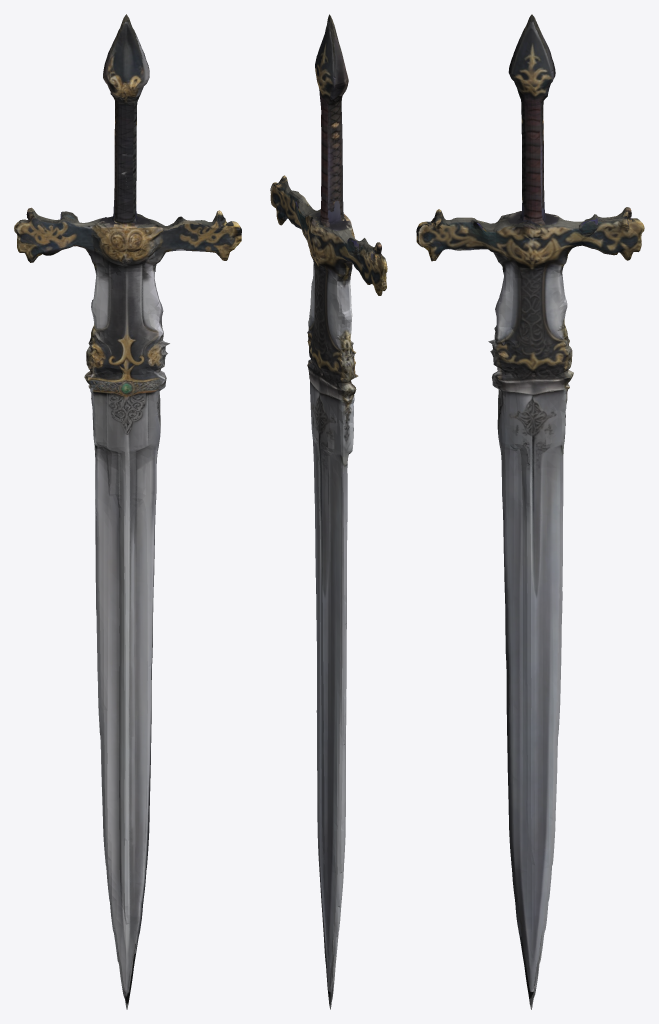
Rendered from sword_0915211634_texture.fbx.
3 views of the same model, side by side, from view 1: azimuth 90°, elevation 25°; view 2: azimuth 210°, elevation 25°; view 3: azimuth 270°, elevation 25° (orthographic).
Visible parts, largest first — view 1: temp; view 2: temp; view 3: temp.
Boxes of the visible parts, x1=… form: temp: x1=14, y1=14, x2=241, y2=1009; temp: x1=270, y1=14, x2=387, y2=1009; temp: x1=416, y1=14, x2=644, y2=1009.
Bounding box in the file's own units: 7.86 × 198 × 41.
Materials: 1 (1 with a texture image).
